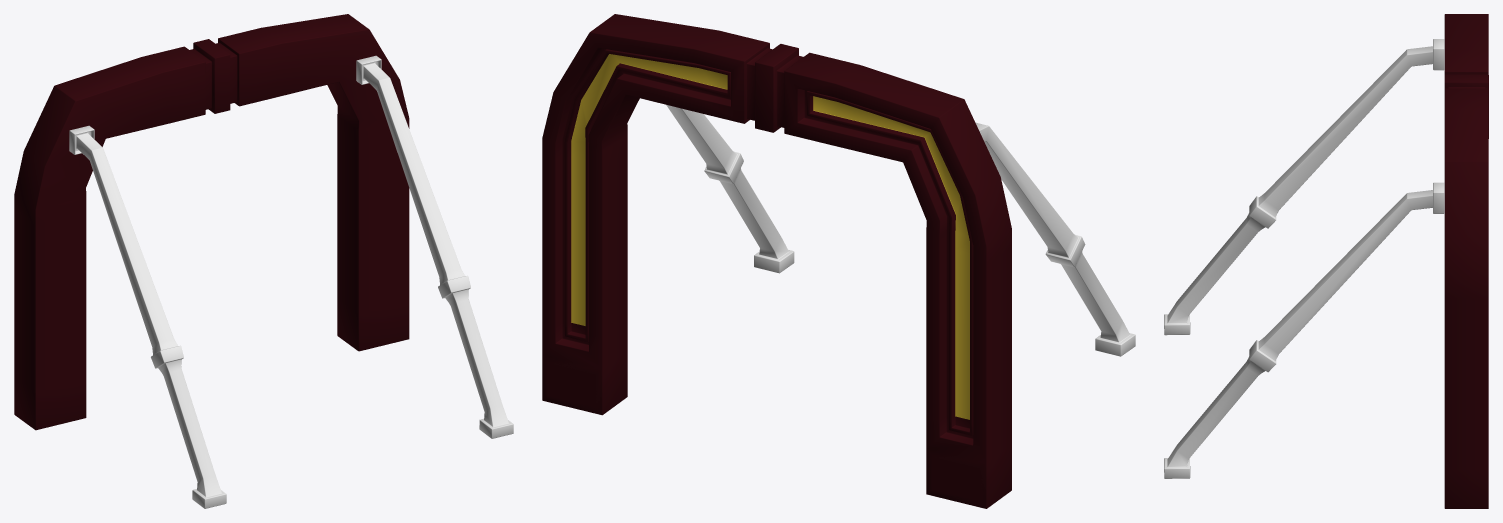
Rendered from ArcoLuminosoPuente.fbx.
The picture shows the model from 3 angles, left to right: view 1: azimuth 30°, elevation 25°; view 2: azimuth 150°, elevation 25°; view 3: azimuth 270°, elevation 25°; orthographic projection. The views are drawn at different scales.
Parts seen in each view (by area): view 1: ArcoPlataforma; view 2: ArcoPlataforma; view 3: ArcoPlataforma.
Part boxes in pixels (left/top/right/bottom): ArcoPlataforma: left=14, top=14, right=513, bottom=508; ArcoPlataforma: left=542, top=14, right=1135, bottom=508; ArcoPlataforma: left=1164, top=14, right=1488, bottom=508.
Size of the model in its own units: 806 by 676 by 590.
